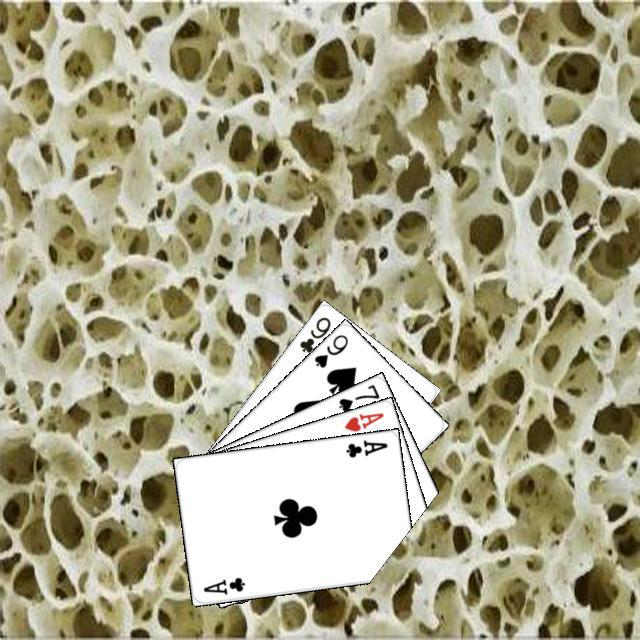7s: (334, 379, 381, 414)
9c: (295, 312, 333, 355)
9s: (309, 329, 350, 370)
Ac: (341, 435, 389, 459), (198, 572, 246, 596)
Ah: (339, 408, 385, 434)
